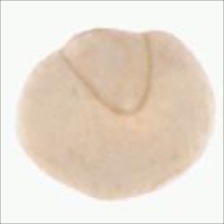L5: (54, 25, 165, 123), (89, 176, 180, 202)
L6: (12, 29, 219, 203)
